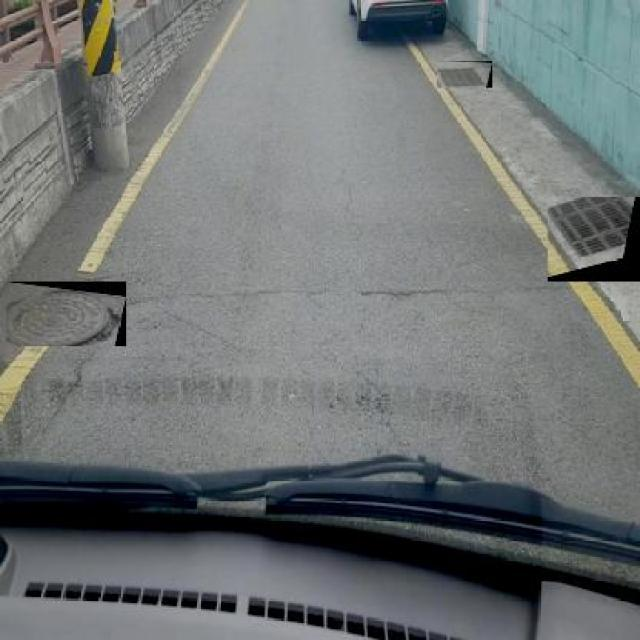Manhole: (547, 196, 640, 281), (6, 282, 126, 346), (437, 60, 492, 88)
